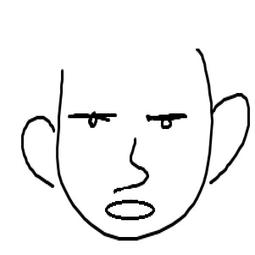ear: (209, 82, 255, 184), (14, 108, 64, 190)
nose: (110, 134, 152, 196)
open_mouth: (103, 197, 158, 220)
small_eye: (65, 101, 119, 130), (142, 107, 188, 132)
